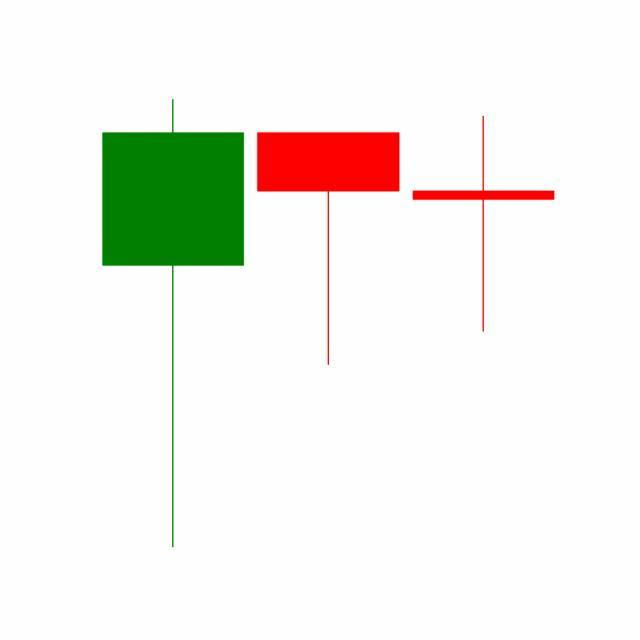Spinning Top: (406, 114, 562, 335)
